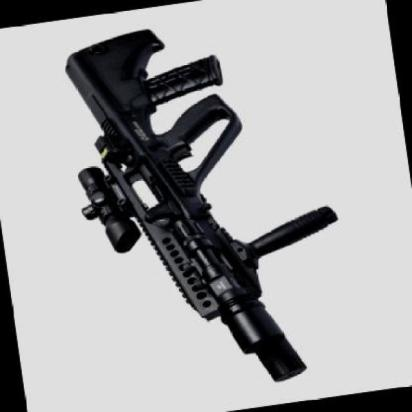Gun: (70, 26, 313, 378)
